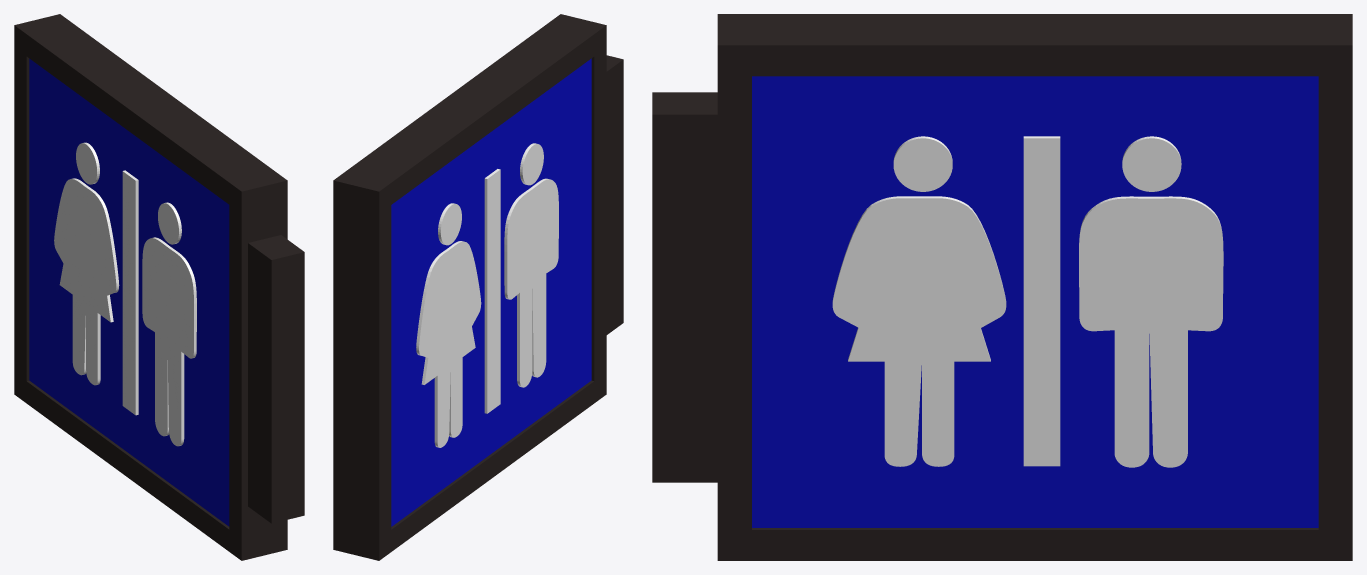
File: bathroomDoorSign.fbx
The picture shows the model from 3 angles, left to right: view 1: azimuth 30°, elevation 25°; view 2: azimuth 150°, elevation 25°; view 3: azimuth 270°, elevation 25°; orthographic projection. The views are drawn at different scales.
Parts seen in each view (by area): view 1: Toilet entrance; view 2: Toilet entrance; view 3: Toilet entrance.
Boxes of the visible parts, bbox=[...] form: Toilet entrance: bbox=[14, 14, 304, 560]; Toilet entrance: bbox=[333, 14, 623, 560]; Toilet entrance: bbox=[652, 14, 1352, 560].
Size of the model in its own units: 2.55 by 19.6 by 24.13.
